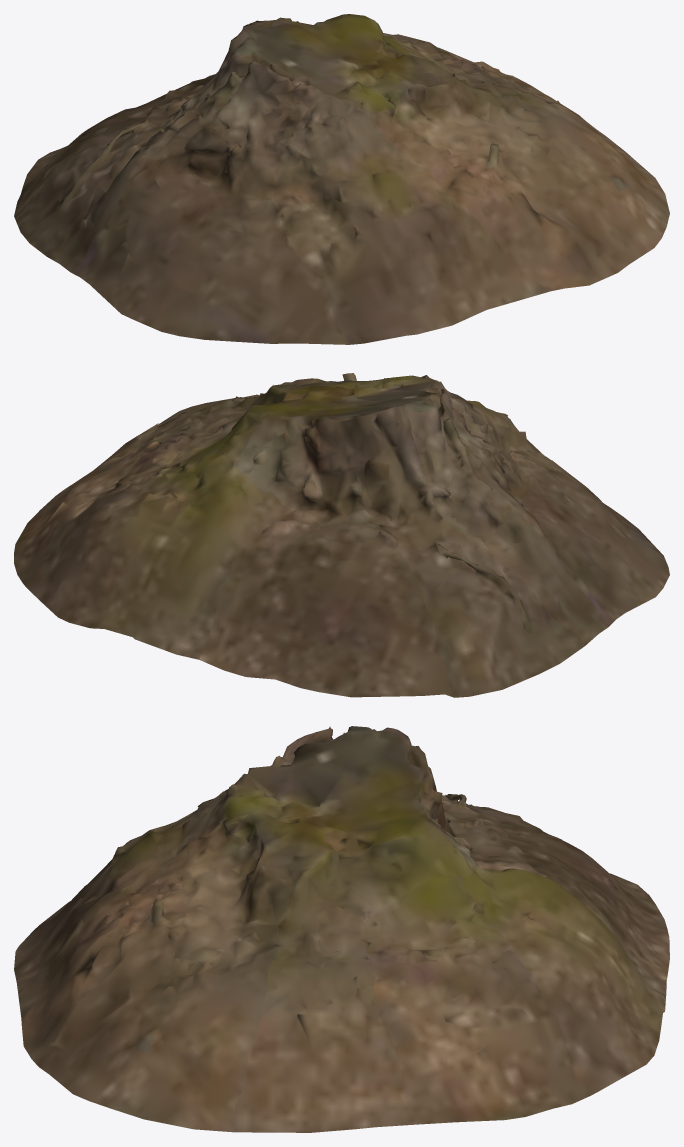
Rendered from tree_stump_02_lod2.glb.
The picture shows the model from 3 angles, top to bottom: view 1: azimuth 30°, elevation 25°; view 2: azimuth 150°, elevation 25°; view 3: azimuth 270°, elevation 25°; orthographic projection. The views are drawn at different scales.
Parts seen in each view (by area): view 1: tree_stump_02; view 2: tree_stump_02; view 3: tree_stump_02.
Part boxes in pixels (x1,y1,x2,y2): tree_stump_02: (14, 14, 669, 344); tree_stump_02: (14, 373, 669, 697); tree_stump_02: (14, 726, 669, 1132).
Size of the model in its own units: 1.52 by 0.5214 by 1.39.
1 material, 1 textured.
